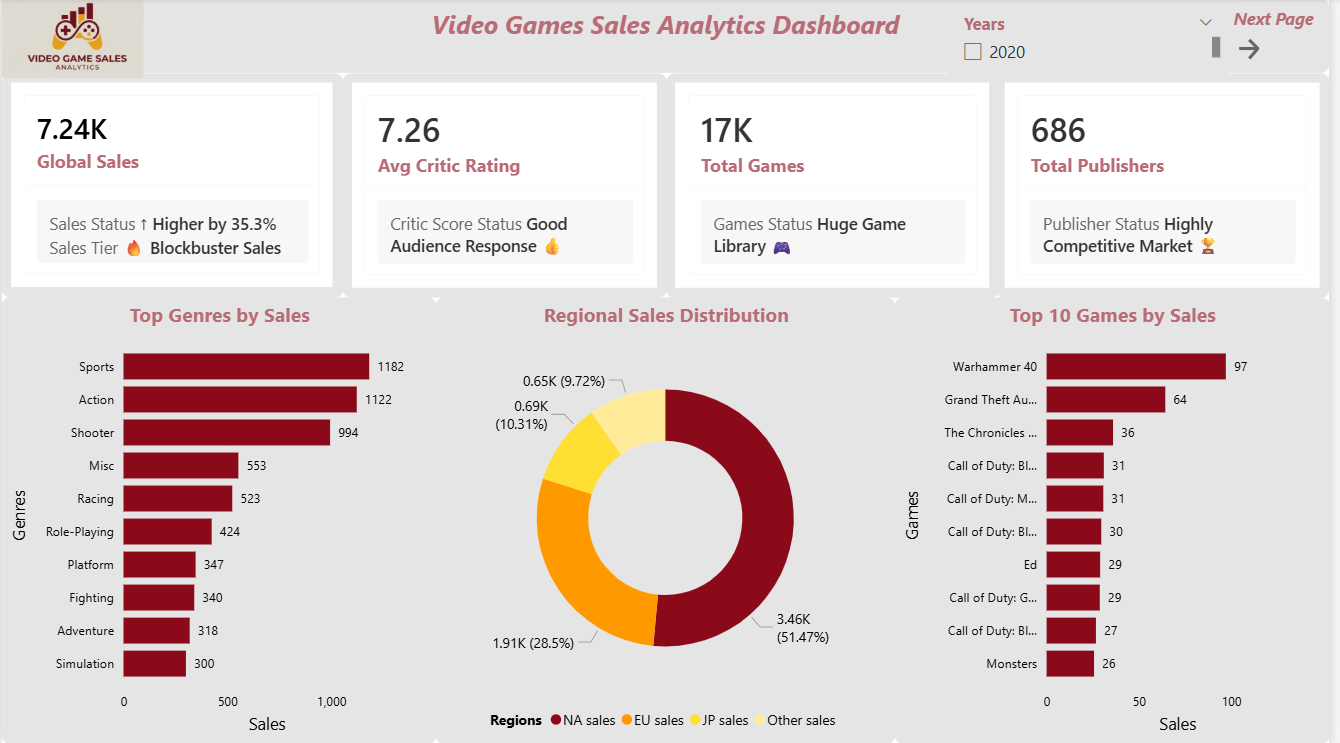

What the dashboard file says about the page in this screenshot:
{"tool":"powerbi","page":{"name":"Executive Overview","canvas":[1280,720],"ordinal":0},"visuals":[{"type":"textbox","box":[0,0,1280.3,72.6],"z":0},{"type":"cardVisual","fields":{"Data":["vg_data.total_global_sales"]},"box":[0,72.8,328.8,216],"z":1000},{"type":"cardVisual","fields":{"Data":["vg_data.Total Publishers"]},"box":[958.1,72.6,322.2,216.5],"z":2000},{"type":"cardVisual","fields":{"Data":["vg_data.Total Games"]},"box":[640.8,72.6,321,216.5],"z":3000},{"type":"cardVisual","fields":{"Data":["vg_data.Avg Critic Score"]},"box":[328.4,72.6,312.4,216.5],"z":4000},{"type":"barChart","title":" Top Genres by Sales","fields":{"Category":["vg_data.genre"],"Y":["vg_data.total_global_sales"]},"box":[0,288.8,418.6,430.7],"z":5000},{"type":"donutChart","title":"Regional Sales Distribution","fields":{"Y":["vg_data.Total NA sales","vg_data.Total EU sales","vg_data.Total JP sales","vg_data.Total other sales"]},"box":[418.6,288.8,442.9,430.7],"z":6000},{"type":"barChart","title":" Top 10 Games by Sales ","fields":{"Category":["vg_data.title"],"Y":["vg_data.total_global_sales"]},"box":[861.5,288.8,418.6,430.7],"z":7000},{"type":"slicer","fields":{"Values":["vg_data.decade"]},"box":[911.2,4.9,273,72.8],"z":8000},{"type":"actionButton","title":"Next Page","box":[1184.2,4.9,95.9,63.1],"z":9000},{"type":"image","box":[0,0,137.1,77.7],"z":10000}]}

Visuals, with their boxes in screenshot pixels (x1, y1, x2, y2), scaled from the page's 1280x720 canvas onto the 1340x743 screenshot:
textbox: crop(0, 0, 1339, 75)
cardVisual - vg_data.total_global_sales: crop(0, 75, 344, 298)
cardVisual - vg_data.Total Publishers: crop(1003, 75, 1339, 298)
cardVisual - vg_data.Total Games: crop(671, 75, 1007, 298)
cardVisual - vg_data.Avg Critic Score: crop(344, 75, 671, 298)
" Top Genres by Sales" barChart: crop(0, 298, 438, 742)
"Regional Sales Distribution" donutChart: crop(438, 298, 902, 742)
" Top 10 Games by Sales " barChart: crop(902, 298, 1339, 742)
slicer - vg_data.decade: crop(954, 5, 1240, 80)
"Next Page" actionButton: crop(1240, 5, 1339, 70)
image: crop(0, 0, 144, 80)
